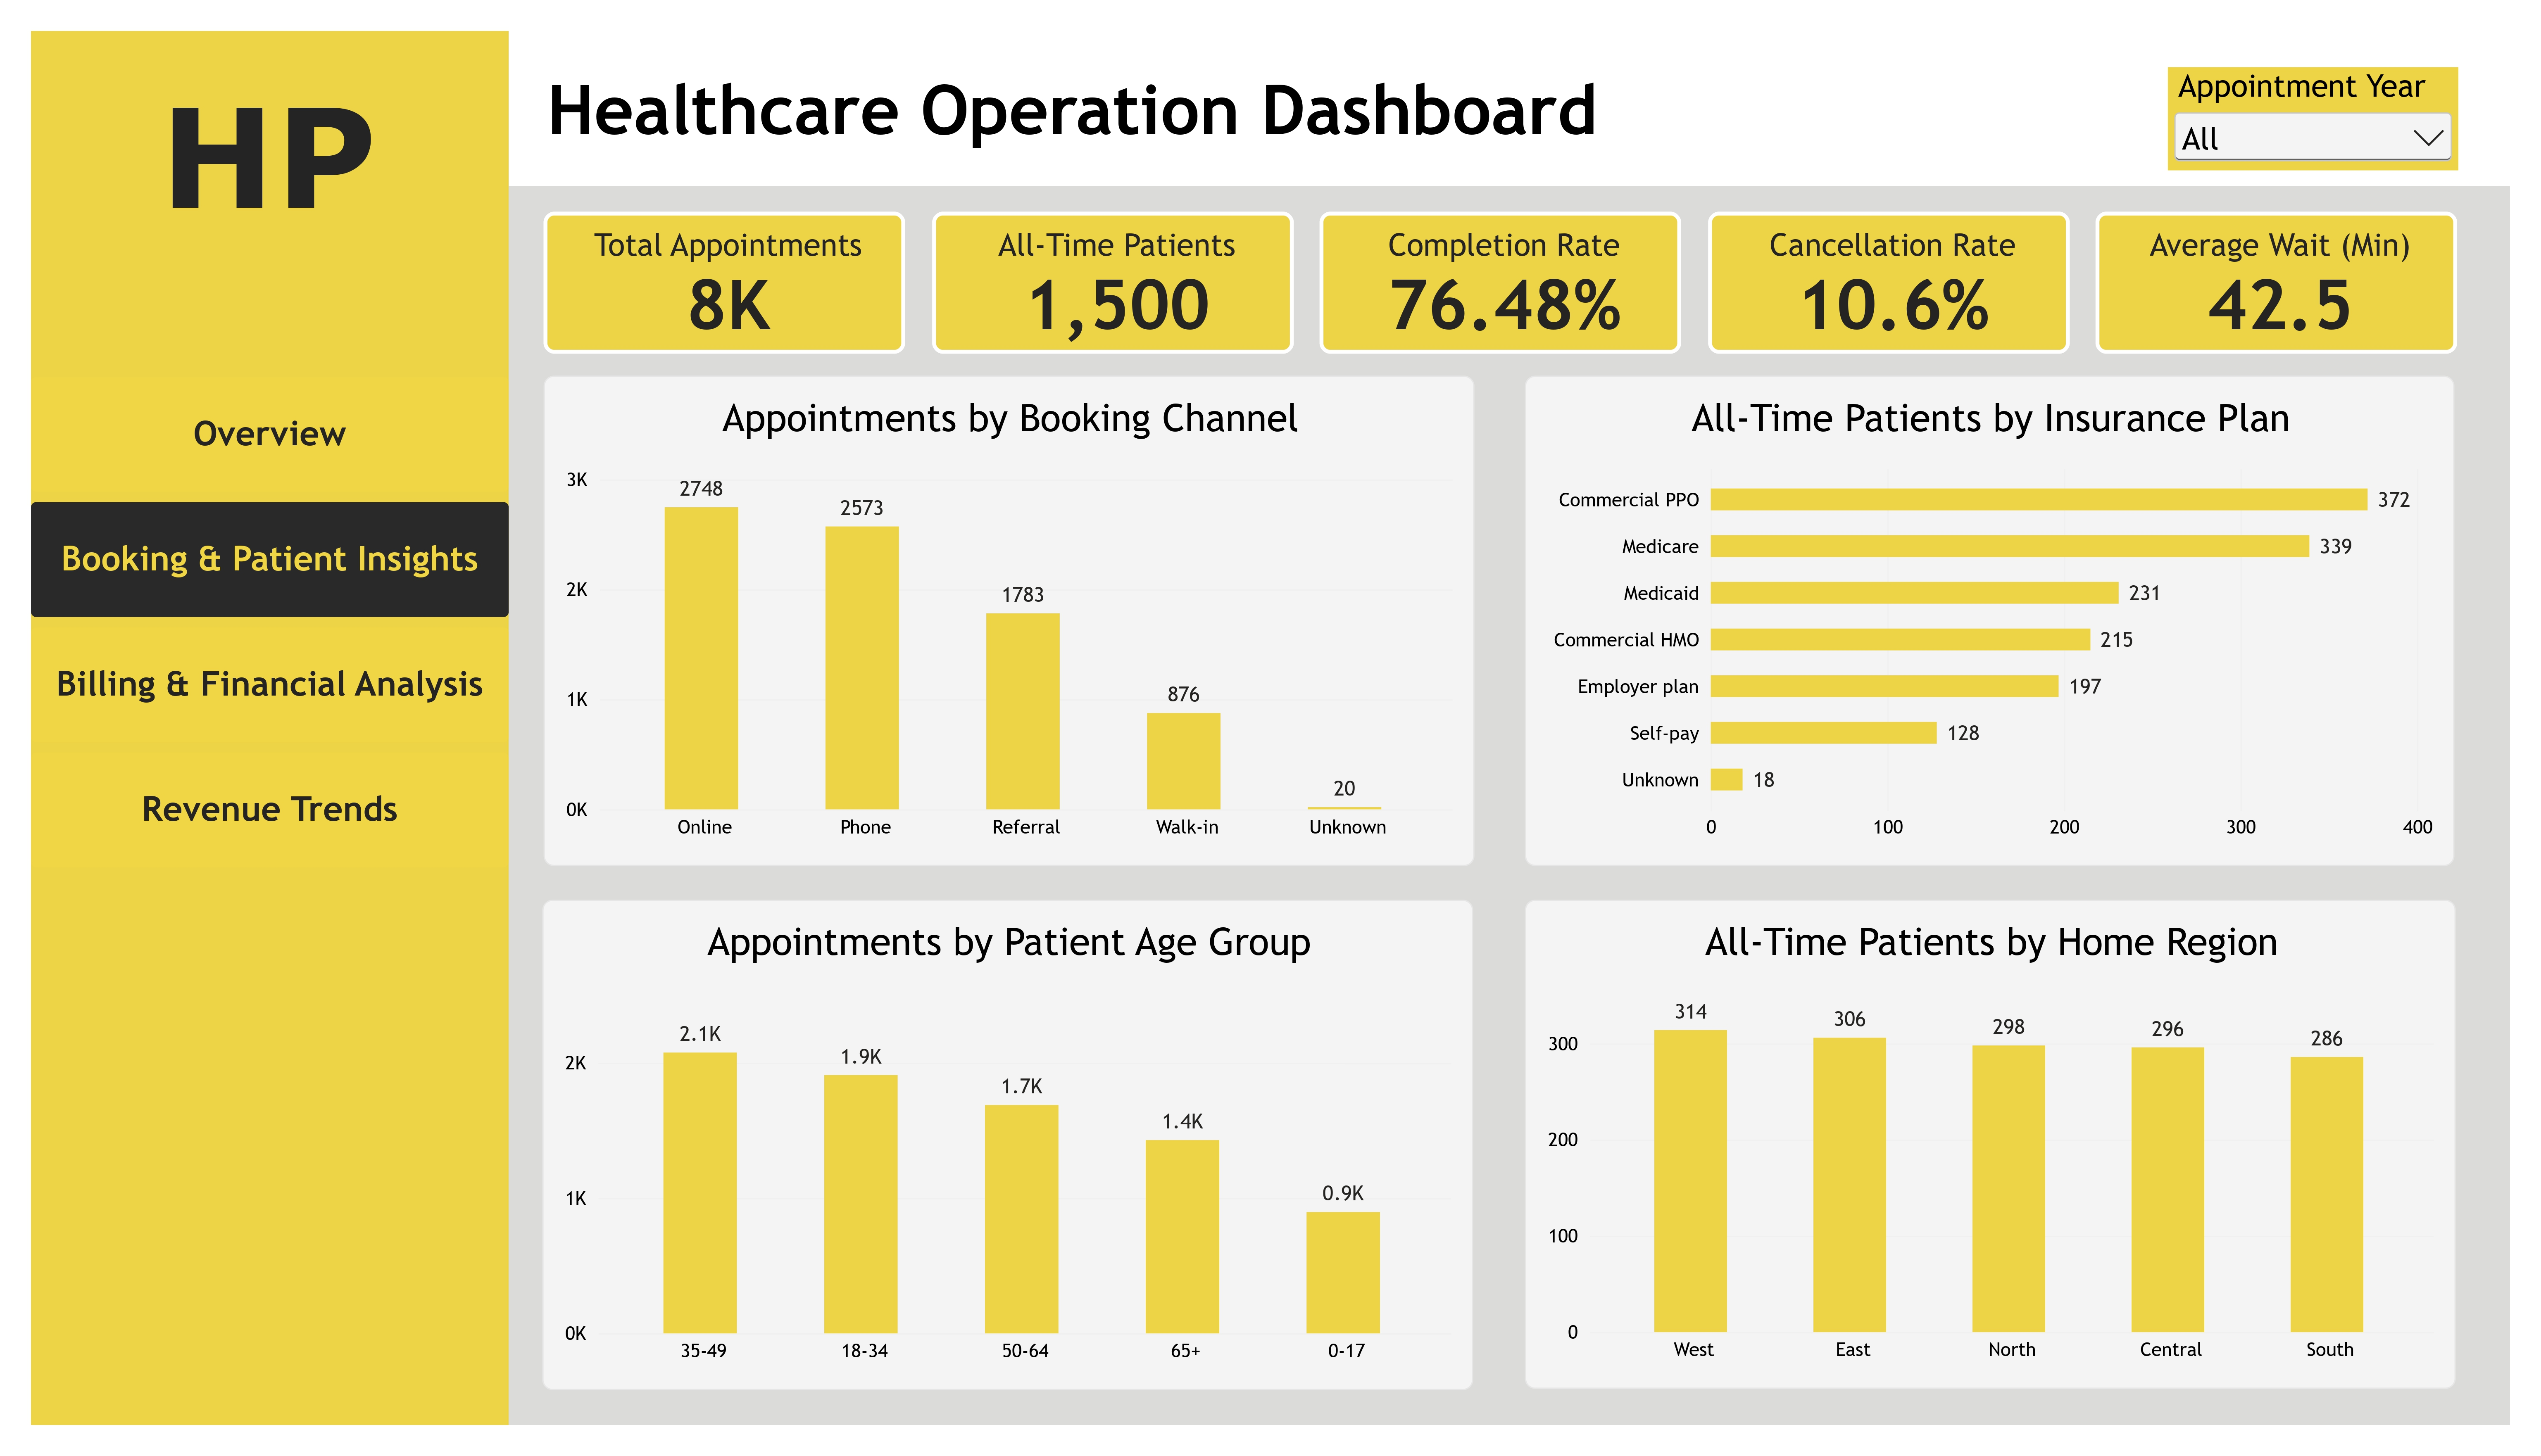

The page's visual inventory and layout, read from the dashboard file:
{"tool":"powerbi","page":{"name":"Booking & Patient Insights","canvas":[1920,1080],"ordinal":1},"visuals":[{"type":"shape","box":[369.8,0,1550.8,1080.8],"z":0},{"type":"shape","box":[370,0,1550,120],"z":1000},{"type":"shape","box":[0,0,370,1080],"z":2000},{"type":"textbox","box":[100,30,175,132.5],"z":3000},{"type":"cardVisual","fields":{"Data":["healthcare_ops appointments.Total Appointments"]},"box":[396.9,140,280,110],"z":4000},{"type":"cardVisual","fields":{"Data":["healthcare_ops patients.Total Patients Display"]},"box":[697.5,140,280,110],"z":5000},{"type":"cardVisual","fields":{"Data":["healthcare_ops appointments.Appointment Completion Rate"]},"box":[998.1,140,280,110],"z":6000},{"type":"cardVisual","fields":{"Data":["healthcare_ops appointments.Appointment Cancellation Rate"]},"box":[1298.8,140,280,110],"z":7000},{"type":"cardVisual","fields":{"Data":["healthcare_ops appointments.Average Waiting Time"]},"box":[1599.4,140,280,110],"z":8000},{"type":"slicer","fields":{"Values":["healthcare_ops appointments.Appointment Year"]},"box":[1655,27.5,225,80],"z":9000},{"type":"clusteredColumnChart","title":"Appointments by Booking Channel","fields":{"Category":["healthcare_ops appointments.Booking Channel Display"],"Y":["healthcare_ops appointments.Total Appointments"]},"box":[397,267,720.5,380],"z":10000},{"type":"clusteredColumnChart","title":"Appointments by Patient Age Group","fields":{"Category":["healthcare_ops patients.age_band"],"Y":["healthcare_ops appointments.Total Appointments"]},"box":[396.1,672.8,720.5,380],"z":11000},{"type":"clusteredBarChart","title":"\tAll-Time Patients by Insurance Plan","fields":{"Category":["healthcare_ops patients.Insurance Plan Display"],"Y":["healthcare_ops patients.Total Patients"]},"box":[1157.2,267.2,720,380],"z":13000},{"type":"clusteredColumnChart","title":"\tAll-Time Patients by Home Region","fields":{"Category":["healthcare_ops patients.home_region"],"Y":["healthcare_ops patients.Total Patients"]},"box":[1157.2,672.8,720.5,379.4],"z":14000},{"type":"textbox","box":[370,30,872.5,62.5],"z":15000},{"type":"pageNavigator","box":[0,267.5,370,380],"z":15001}]}

Visuals, with their boxes on the page's 1920x1080 design canvas (x1, y1, x2, y2). These are canvas units, not pixel positions in the 2541x1456 screenshot, which may show the page scaled, cropped or inside an application window:
shape: box=[370, 0, 1921, 1081]
shape: box=[370, 0, 1920, 120]
shape: box=[0, 0, 370, 1080]
textbox: box=[100, 30, 275, 162]
cardVisual - healthcare_ops appointments.Total Appointments: box=[397, 140, 677, 250]
cardVisual - healthcare_ops patients.Total Patients Display: box=[698, 140, 978, 250]
cardVisual - healthcare_ops appointments.Appointment Completion Rate: box=[998, 140, 1278, 250]
cardVisual - healthcare_ops appointments.Appointment Cancellation Rate: box=[1299, 140, 1579, 250]
cardVisual - healthcare_ops appointments.Average Waiting Time: box=[1599, 140, 1879, 250]
slicer - healthcare_ops appointments.Appointment Year: box=[1655, 28, 1880, 108]
"Appointments by Booking Channel" clusteredColumnChart: box=[397, 267, 1118, 647]
"Appointments by Patient Age Group" clusteredColumnChart: box=[396, 673, 1117, 1053]
"	All-Time Patients by Insurance Plan" clusteredBarChart: box=[1157, 267, 1877, 647]
"	All-Time Patients by Home Region" clusteredColumnChart: box=[1157, 673, 1878, 1052]
textbox: box=[370, 30, 1242, 92]
pageNavigator: box=[0, 268, 370, 648]
